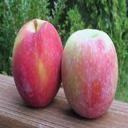apple: (12, 18, 64, 107)
